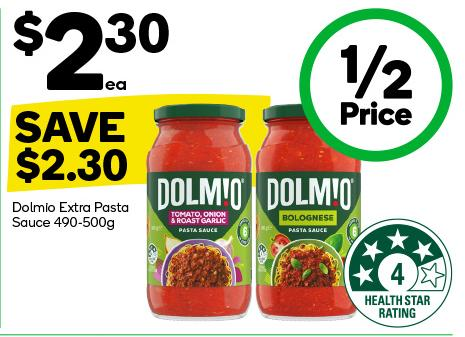description_block: (0, 195, 133, 240)
price_main: (4, 6, 181, 98)
product_image_block: (128, 93, 367, 323)
promo_text_block: (2, 101, 146, 194)
